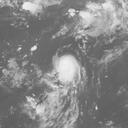cyclone: (52, 52, 85, 92)
